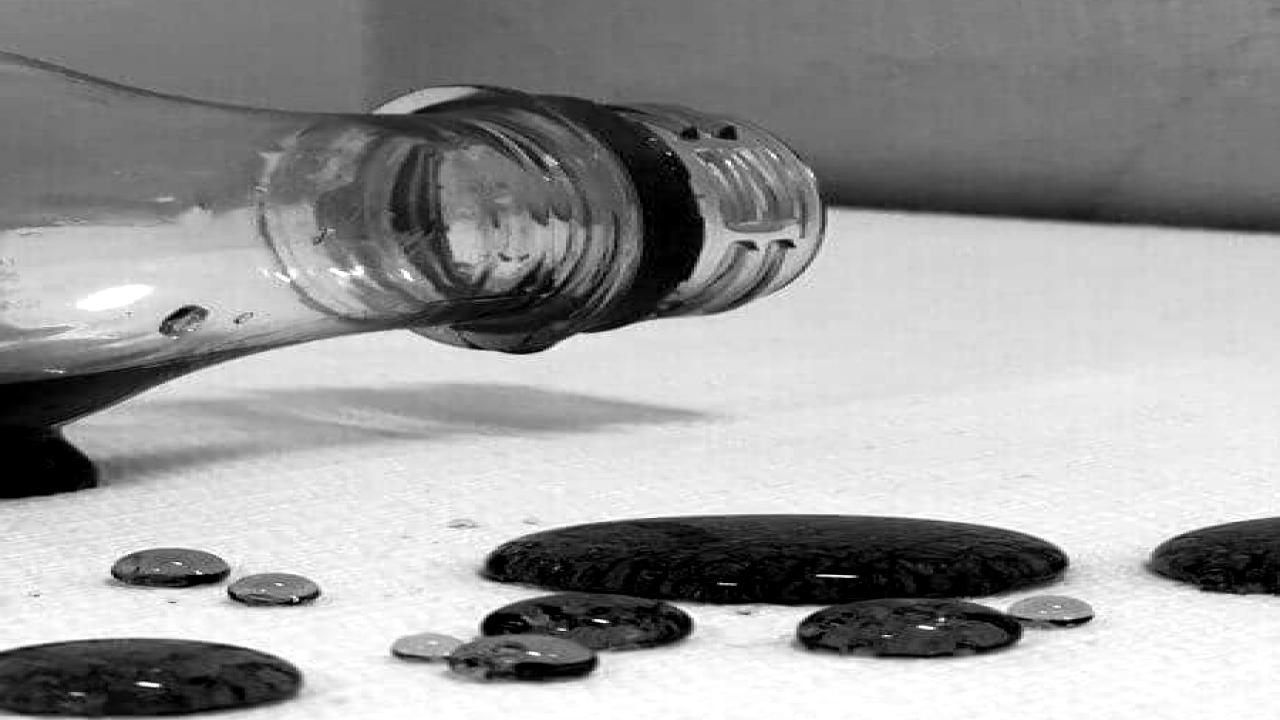drinks Stains: (415, 508, 1280, 607), (369, 594, 1242, 690), (0, 629, 321, 720), (96, 539, 356, 612)
